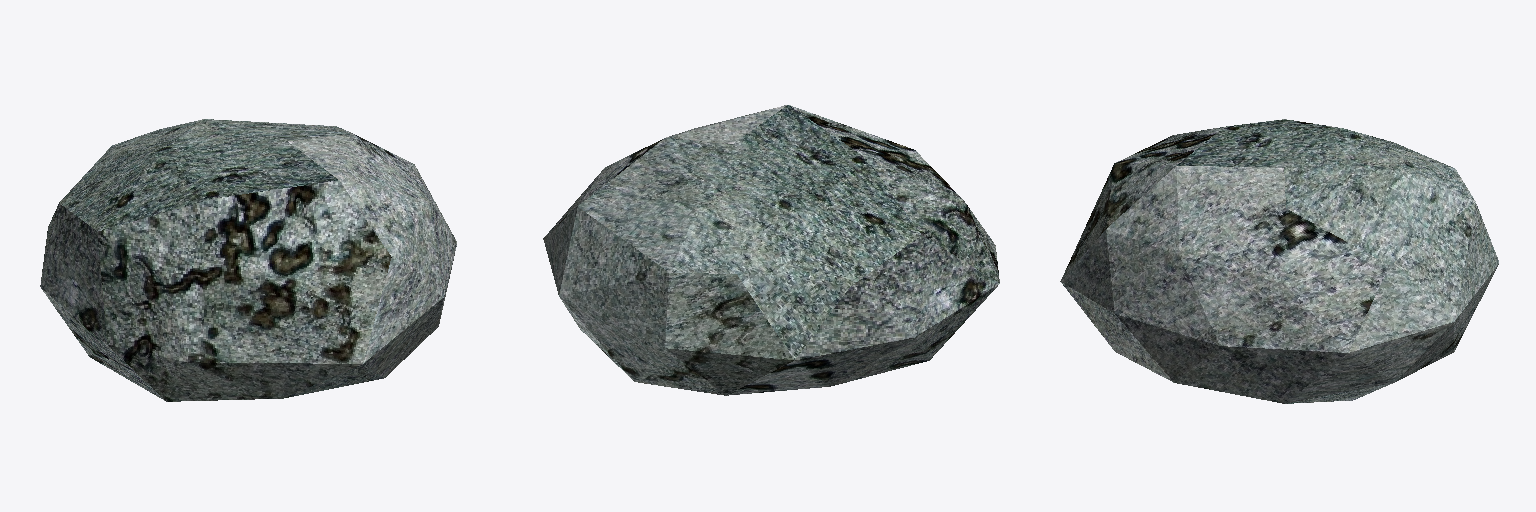
3 views of the same model, side by side, from view 1: azimuth 30°, elevation 25°; view 2: azimuth 150°, elevation 25°; view 3: azimuth 270°, elevation 25° (orthographic).
Visible parts, largest first — view 1: Icosphere; view 2: Icosphere; view 3: Icosphere.
Part boxes in pixels (left/top/right/bottom): Icosphere: left=40, top=119, right=456, bottom=401; Icosphere: left=543, top=105, right=999, bottom=395; Icosphere: left=1060, top=119, right=1498, bottom=403.
Bounding box in the file's own units: 3.05 × 1.62 × 3.04.
1 materials, 1 textured.